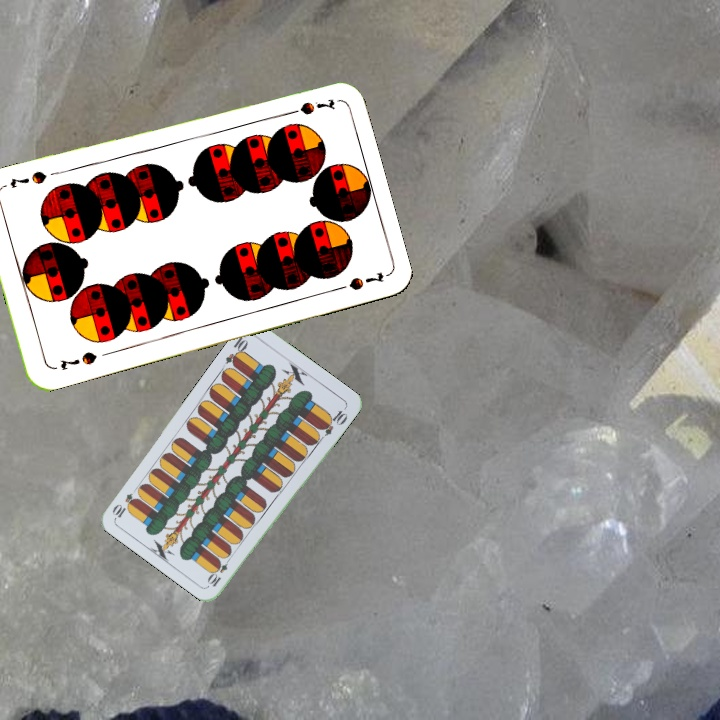E10: (221, 331, 251, 369), (204, 552, 234, 589)
S7: (280, 94, 337, 119), (56, 347, 100, 373)
